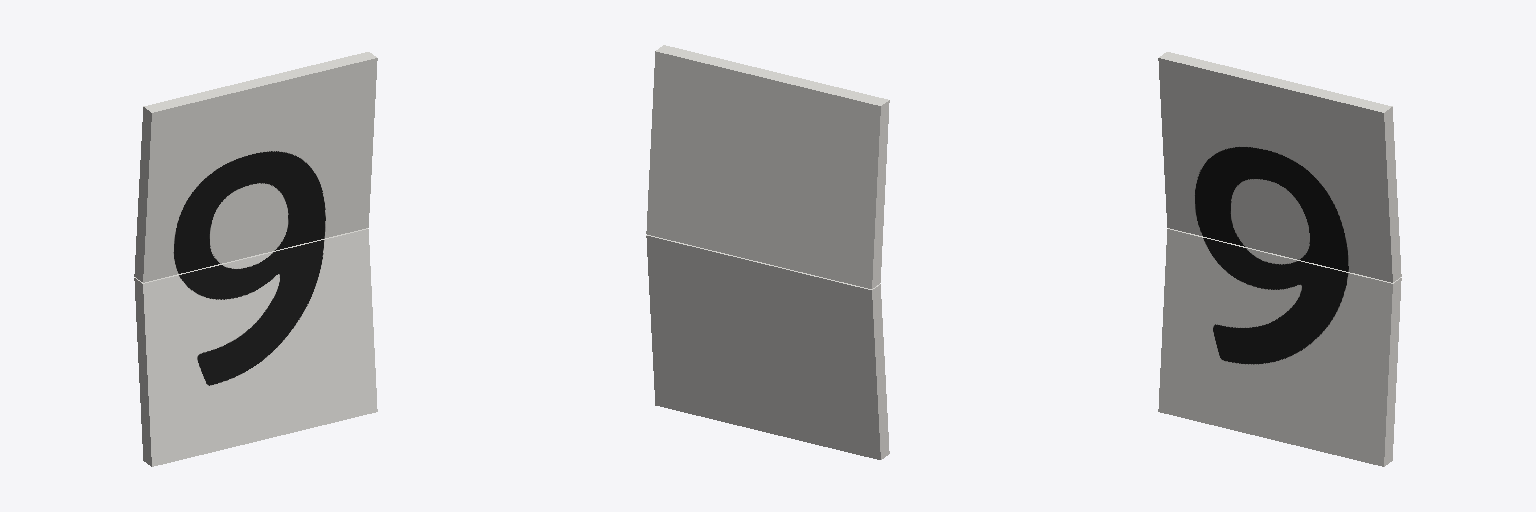
The picture shows the model from 3 angles: view 1: azimuth 30°, elevation 25°; view 2: azimuth 150°, elevation 25°; view 3: azimuth 330°, elevation 25°; orthographic projection.
Visible parts, largest first — view 1: timer:pCube3; view 2: timer:pCube3; view 3: timer:pCube3.
Part boxes in pixels (bbox=[...]): timer:pCube3: bbox=[134, 52, 377, 466]; timer:pCube3: bbox=[646, 45, 889, 459]; timer:pCube3: bbox=[1158, 52, 1401, 466].
Bounding box in the file's own units: 0.5054 × 0.758 × 0.0684.
Materials: 1 (1 with a texture image).